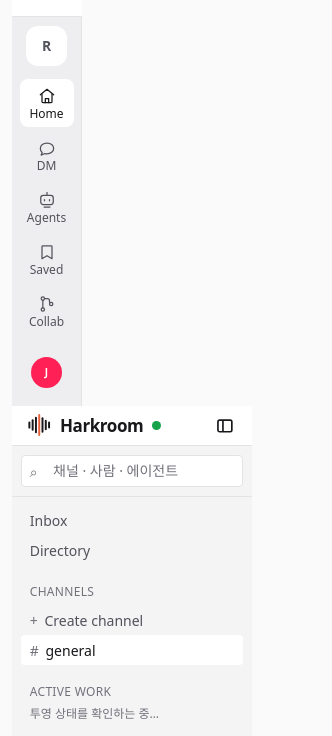
Test: A1 · 내 자리가 얼굴을 갖고 눌린다 › 메뉴 머리가 이름 · @handle · 어느 워크스페이스인지를 말한다
This screenshot has width=332, height=736.
Click the button with test id "me-row": point(46, 373) x1=16 y1=348 x2=76 y2=397
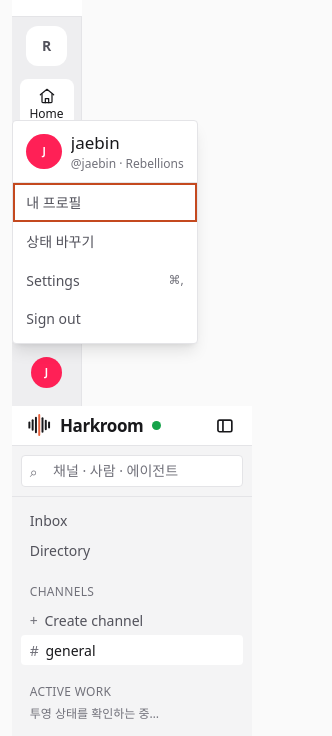
Check: the menu shows "@jaebin", box x1=12 y1=120 x2=198 y2=344
Check: the menu shows "Rebellions", box x1=126 y1=155 x2=184 y2=172
